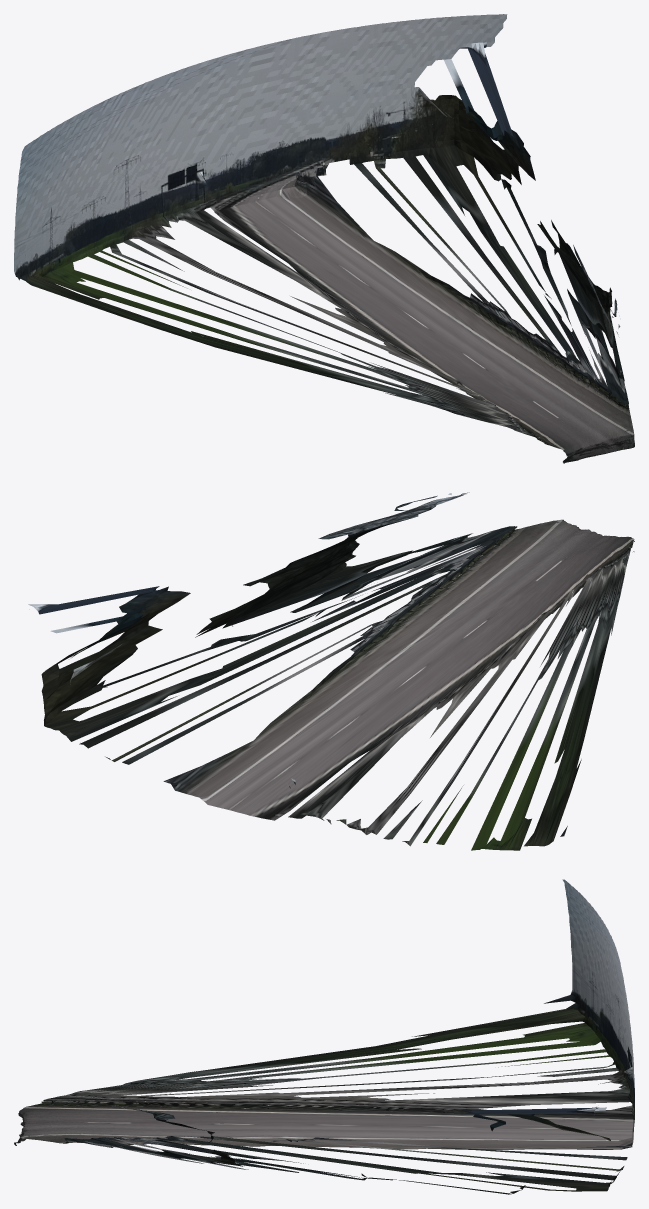
3 views of the same model, one above another, from view 1: azimuth 30°, elevation 25°; view 2: azimuth 150°, elevation 25°; view 3: azimuth 270°, elevation 25° (orthographic). The views are drawn at different scales.
Parts seen in each view (by area): view 1: defaultobject; view 2: defaultobject; view 3: defaultobject.
Part boxes in pixels (<box>): defaultobject: <box>14,14,634,463</box>; defaultobject: <box>28,492,634,850</box>; defaultobject: <box>14,879,634,1194</box>.
Bounding box in the file's own units: 37.08 × 11.79 × 44.57.
1 material, 1 textured.
